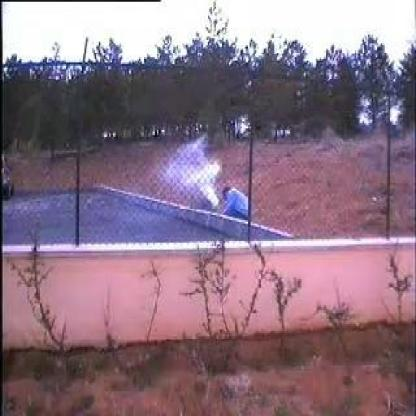-: (162, 137, 224, 206)
